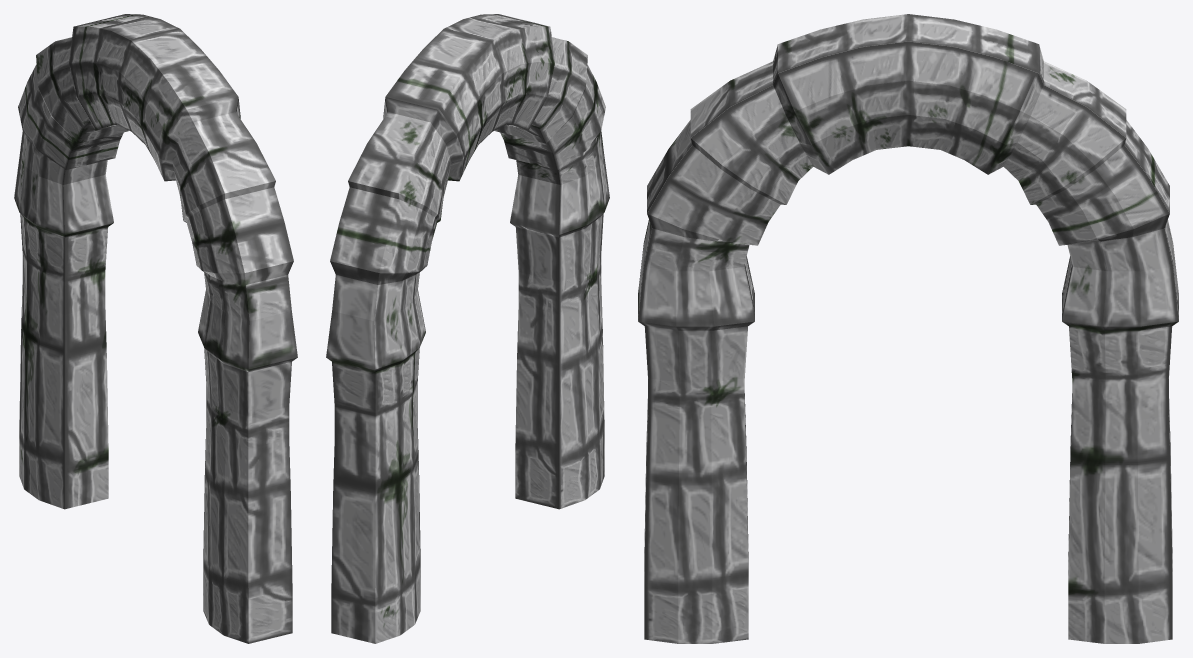
Rendered from portal.fbx.
3 renders of one model, left to right at view 1: azimuth 30°, elevation 25°; view 2: azimuth 150°, elevation 25°; view 3: azimuth 270°, elevation 25°, orthographic. The views are drawn at different scales.
Parts seen in each view (by area): view 1: Cube; view 2: Cube; view 3: Cube.
Part boxes in pixels (x1,y1,x2,y2): Cube: (14, 14, 297, 643); Cube: (326, 14, 609, 643); Cube: (638, 14, 1178, 643).
Size of the model in its own units: 3.45 by 23.47 by 19.19.
